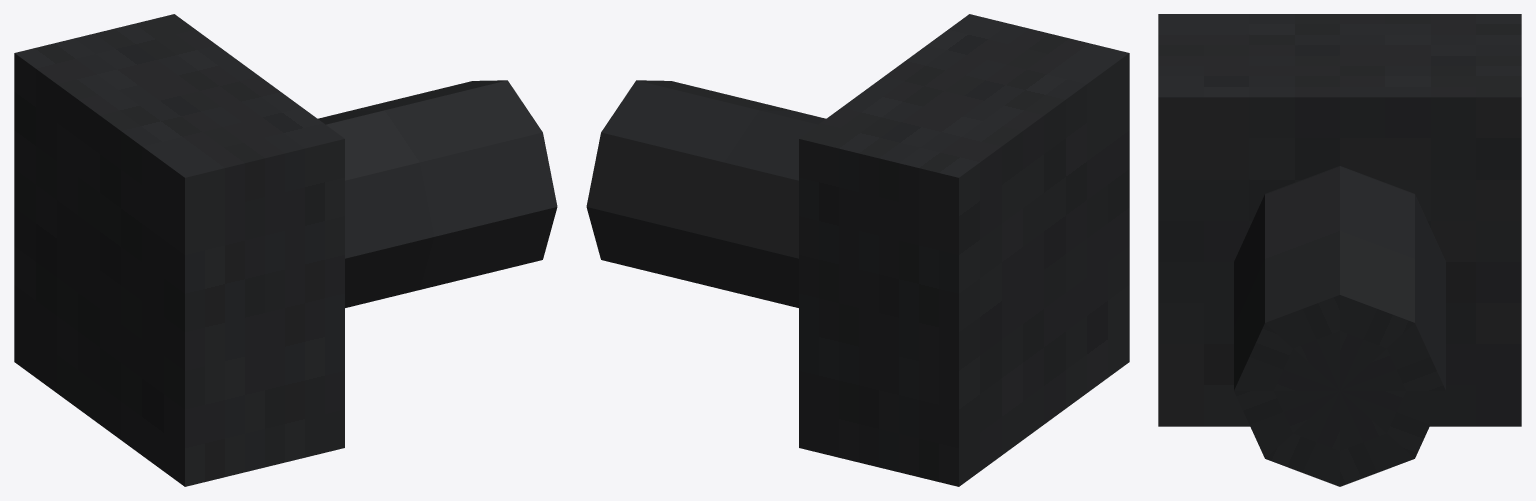
Rendered from decopole_calheights_mount_w.obj.
3 views of the same model, side by side, from view 1: azimuth 30°, elevation 25°; view 2: azimuth 150°, elevation 25°; view 3: azimuth 270°, elevation 25° (orthographic). The views are drawn at different scales.
Parts seen in each view (by area): view 1: decopole_calheights_mount_w; view 2: decopole_calheights_mount_w; view 3: decopole_calheights_mount_w.
Part boxes in pixels (<box>): decopole_calheights_mount_w: <box>14,14,557,486</box>; decopole_calheights_mount_w: <box>586,14,1129,486</box>; decopole_calheights_mount_w: <box>1158,14,1521,486</box>.
Bounding box in the file's own units: 0.4144 × 0.3 × 0.3.
